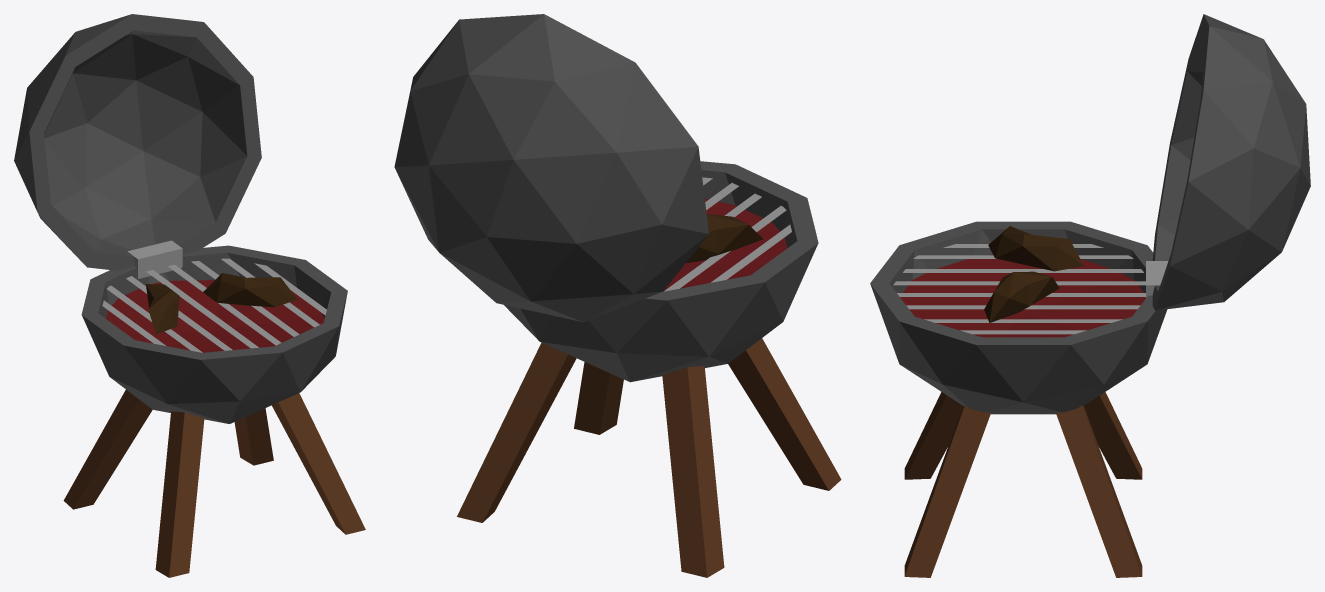
The model's file is barbecue.glb.
The picture shows the model from 3 angles, left to right: view 1: azimuth 30°, elevation 25°; view 2: azimuth 150°, elevation 25°; view 3: azimuth 270°, elevation 25°; orthographic projection. The views are drawn at different scales.
Visible parts, largest first — view 1: Icosphere.001; view 2: Icosphere.001; view 3: Icosphere.001.
Boxes of the visible parts, x1=… form: Icosphere.001: x1=14, y1=14, x2=365, y2=577; Icosphere.001: x1=394, y1=14, x2=841, y2=577; Icosphere.001: x1=870, y1=14, x2=1310, y2=577.
Size of the model in its own units: 2.17 by 4.08 by 3.28.
1 material, 1 textured.
